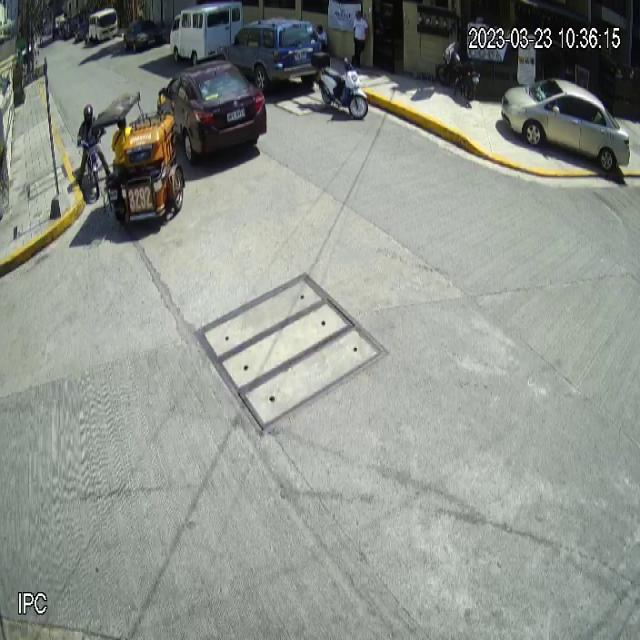Car: (501, 79, 631, 172), (156, 62, 267, 165), (217, 16, 322, 96)
Motorcycle: (311, 52, 369, 121)
Tricycle: (93, 91, 186, 227)
Van: (170, 0, 243, 67)
